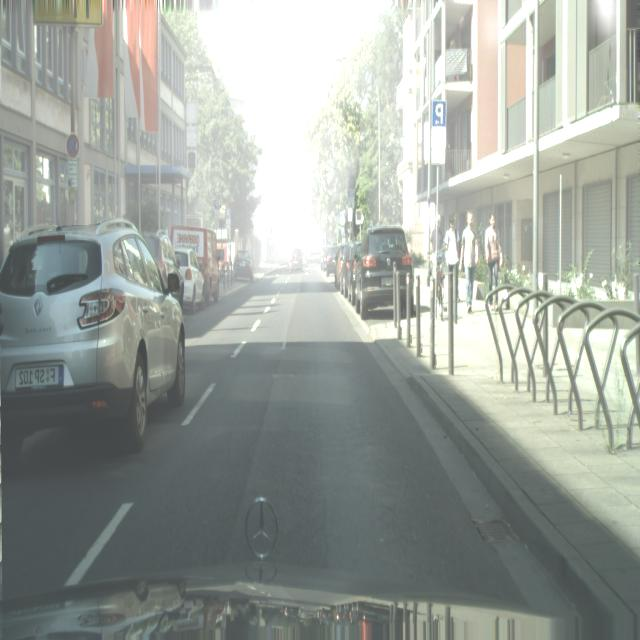motorcycle: (171, 225, 221, 304)
person: (443, 214, 460, 321), (461, 212, 478, 314), (484, 213, 502, 300), (430, 214, 445, 310)
truck: (0, 219, 187, 460), (351, 225, 415, 319), (143, 230, 184, 304), (174, 248, 205, 314), (339, 242, 354, 297), (232, 251, 254, 284), (324, 246, 339, 279), (287, 248, 304, 271)
